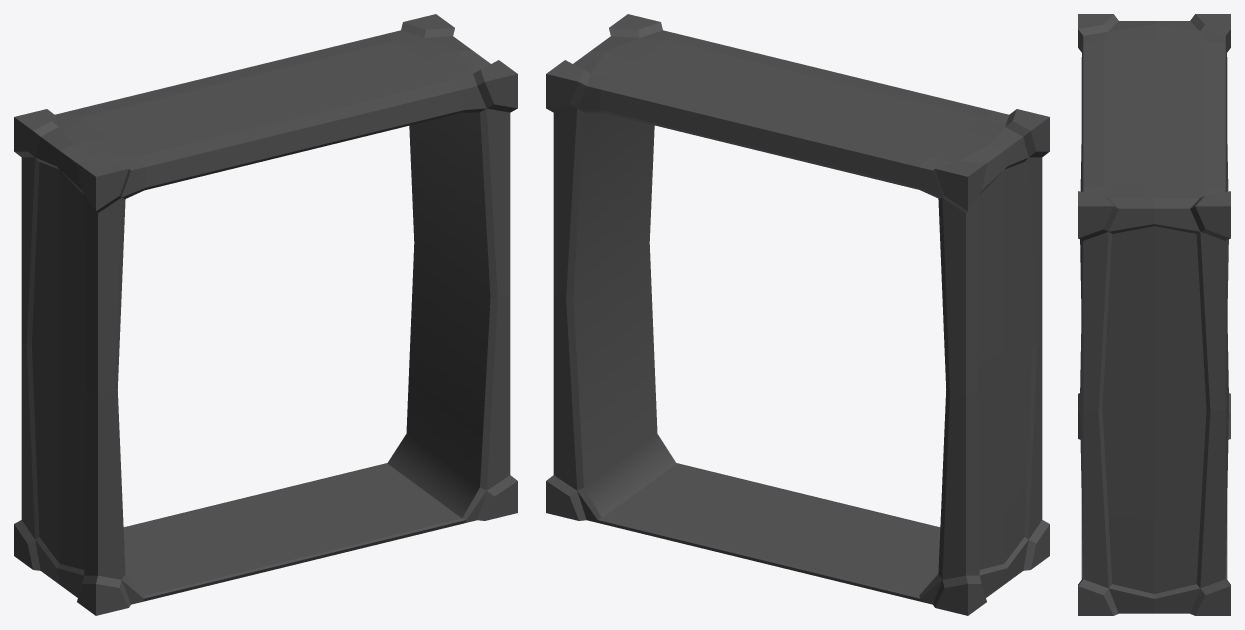
Rendered from doorFrame.fbx.
3 views of the same model, side by side, from view 1: azimuth 30°, elevation 25°; view 2: azimuth 150°, elevation 25°; view 3: azimuth 270°, elevation 25° (orthographic). The views are drawn at different scales.
Visible parts, largest first — view 1: DoorFrame; view 2: DoorFrame; view 3: DoorFrame.
Boxes of the visible parts, x1,y1,x2,y2 form: DoorFrame: [14, 14, 517, 615]; DoorFrame: [546, 14, 1049, 615]; DoorFrame: [1078, 14, 1230, 615].
Bounding box in the file's own units: 3.19 × 3.17 × 1.07.
Materials: 1 (1 with a texture image).
